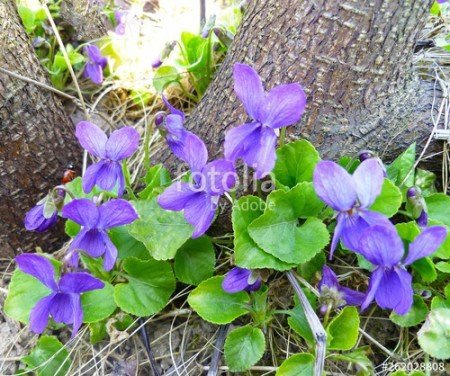violet: (11, 252, 107, 346), (158, 123, 238, 232), (351, 225, 444, 317), (310, 155, 398, 243), (223, 61, 294, 170), (59, 196, 142, 263), (69, 121, 137, 196)
